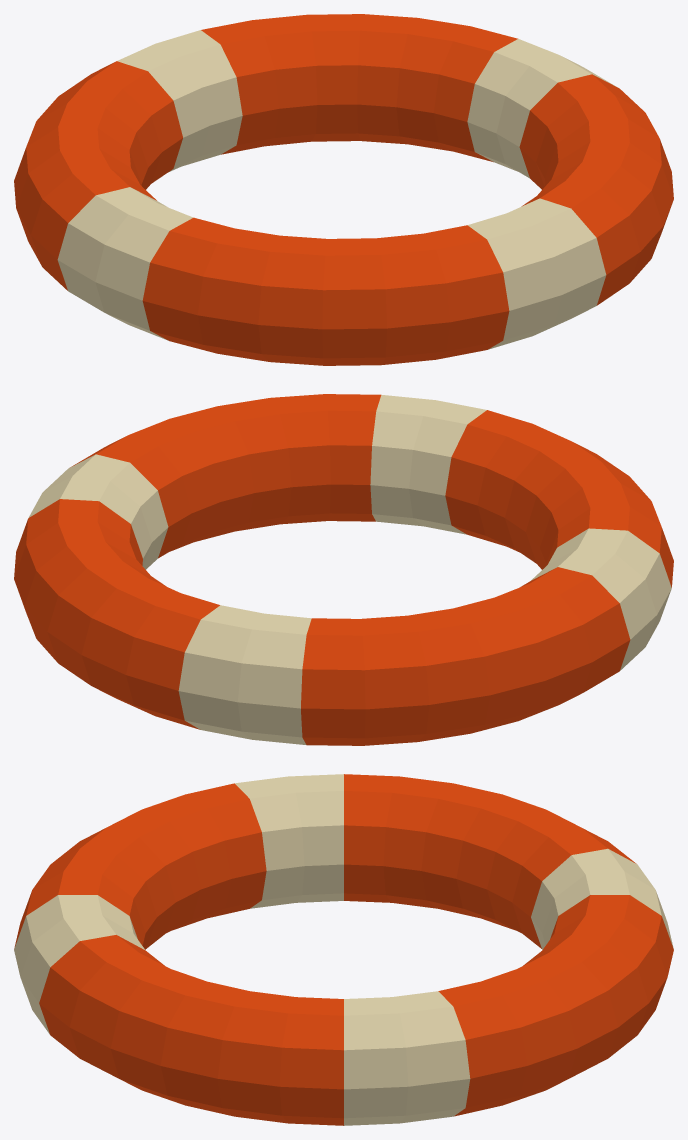
Rendered from RecoveryFloatRing.glb.
3 renders of one model, top to bottom at view 1: azimuth 30°, elevation 25°; view 2: azimuth 150°, elevation 25°; view 3: azimuth 270°, elevation 25°, orthographic.
Parts seen in each view (by area): view 1: RecoveryFloatRing; view 2: RecoveryFloatRing; view 3: RecoveryFloatRing.
Boxes of the visible parts, <box> form: RecoveryFloatRing: <box>14,14,673,365</box>; RecoveryFloatRing: <box>14,394,673,745</box>; RecoveryFloatRing: <box>14,774,673,1125</box>.
Bounding box in the file's own units: 2.48 × 0.4565 × 2.48.
